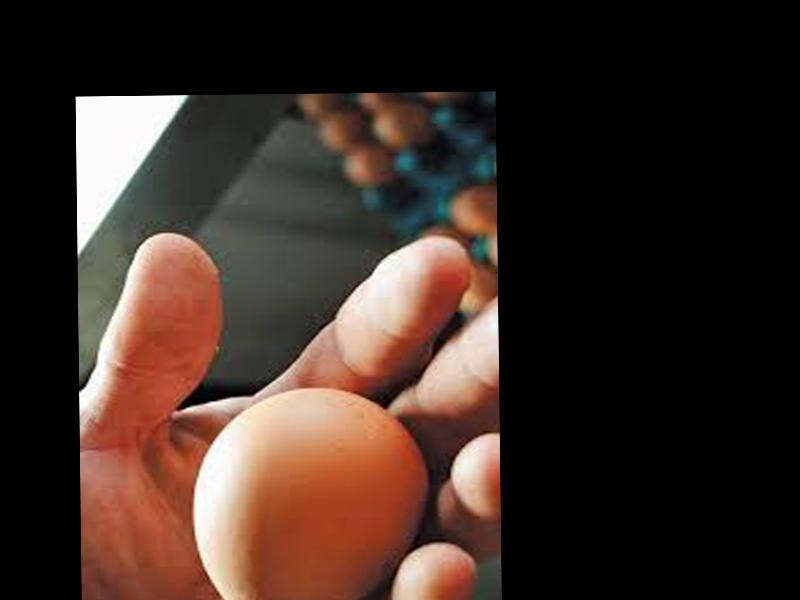Eggs: (193, 385, 433, 600)
